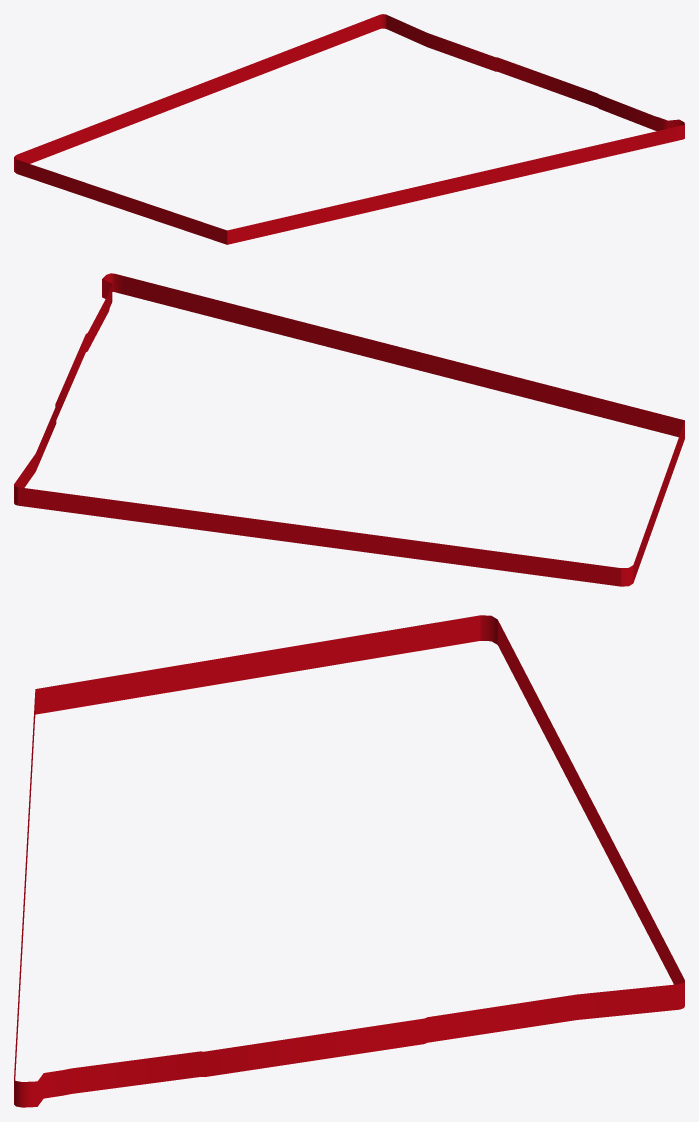
Rendered from Vent barricades.fbx.
3 views of the same model, one above another, from view 1: azimuth 30°, elevation 25°; view 2: azimuth 150°, elevation 25°; view 3: azimuth 270°, elevation 25° (orthographic). The views are drawn at different scales.
Visible parts, largest first — view 1: Vent Barriers.001; view 2: Vent Barriers.001; view 3: Vent Barriers.001.
Part boxes in pixels (x1=…): Vent Barriers.001: x1=14, y1=14, x2=684, y2=244; Vent Barriers.001: x1=14, y1=273, x2=684, y2=586; Vent Barriers.001: x1=14, y1=615, x2=684, y2=1107.
Size of the model in its own units: 3708 by 94.74 by 2253.
